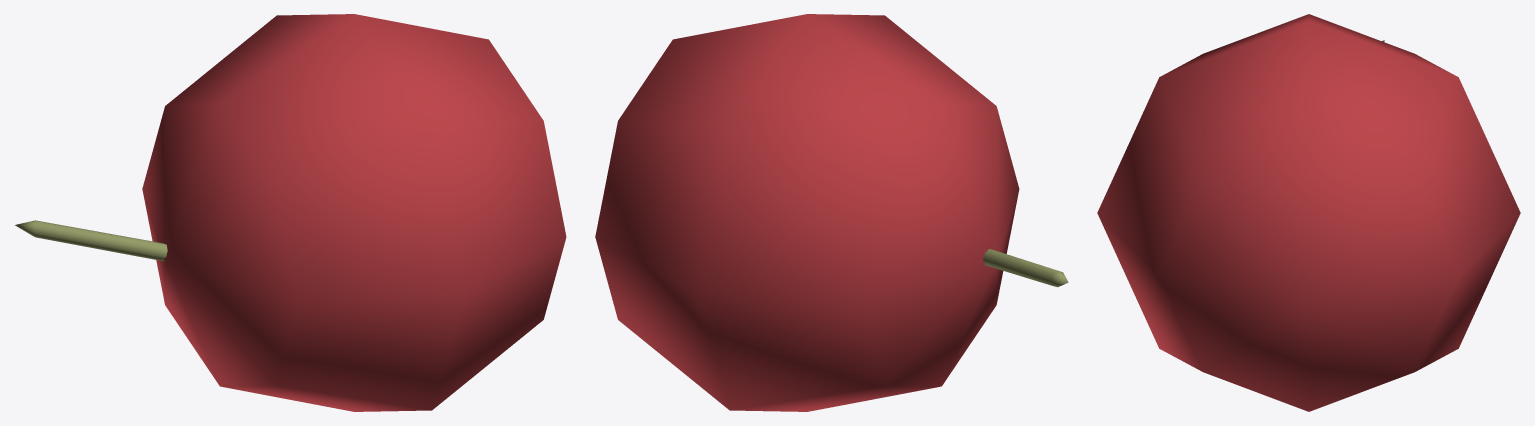
The model's file is SM_Blueberry_Pickup.fbx.
The picture shows the model from 3 angles, left to right: view 1: azimuth 30°, elevation 25°; view 2: azimuth 150°, elevation 25°; view 3: azimuth 270°, elevation 25°; orthographic projection. The views are drawn at different scales.
Visible parts, largest first — view 1: SM_Blueberry_Pickup; view 2: SM_Blueberry_Pickup; view 3: SM_Blueberry_Pickup.
Part boxes in pixels (x1=…): SM_Blueberry_Pickup: x1=15, y1=14, x2=566, y2=411; SM_Blueberry_Pickup: x1=595, y1=14, x2=1068, y2=411; SM_Blueberry_Pickup: x1=1097, y1=14, x2=1520, y2=411.
Size of the model in its own units: 34.75 by 26.93 by 26.93.
